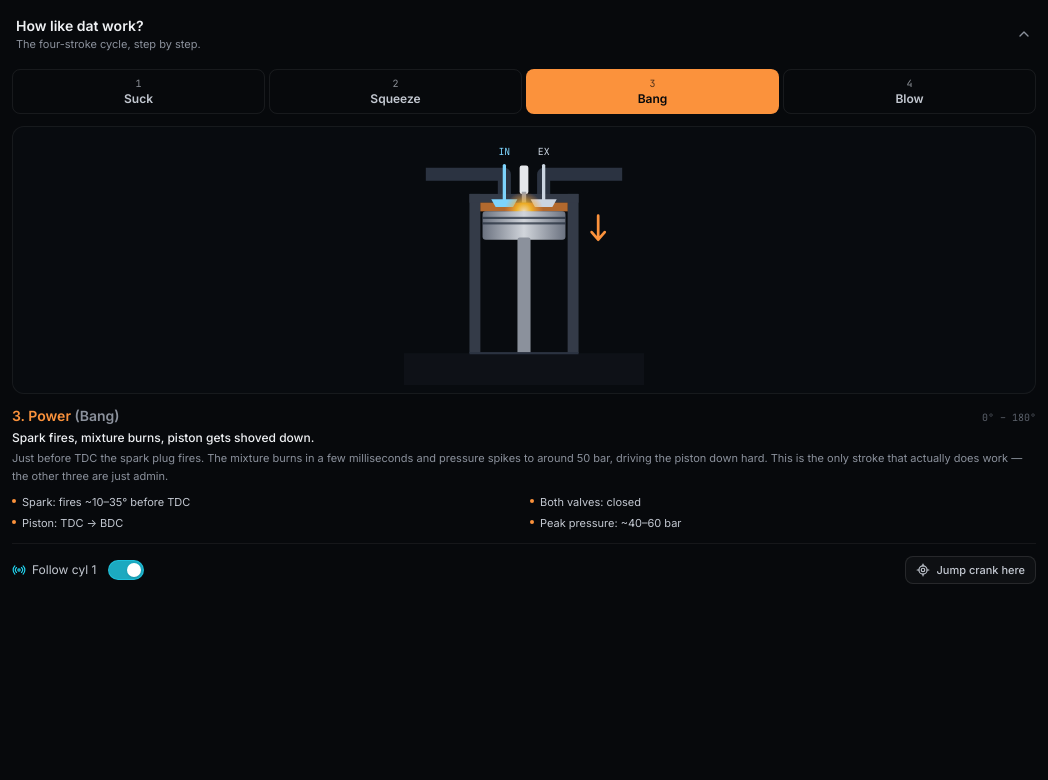
Test case: HowLikeDatWork › follows the live cylinder by default and lets you pick a stroke manually
Expected: the text "Spark fires, mixture burns, piston gets shoved down." is shown, 12,430 -> 314,445
Click the button "1 Suck": (138, 91) 12,68 -> 265,114
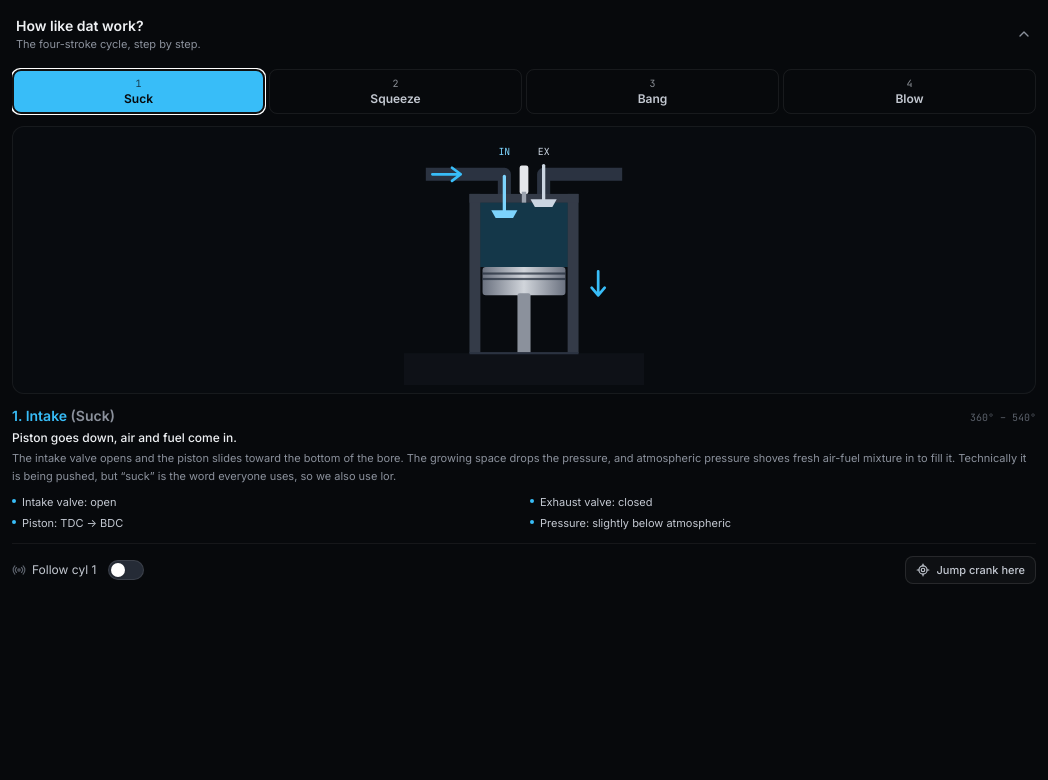
Now the text "Piston goes down, air and fuel come in." is shown, box 12,430 -> 237,445
